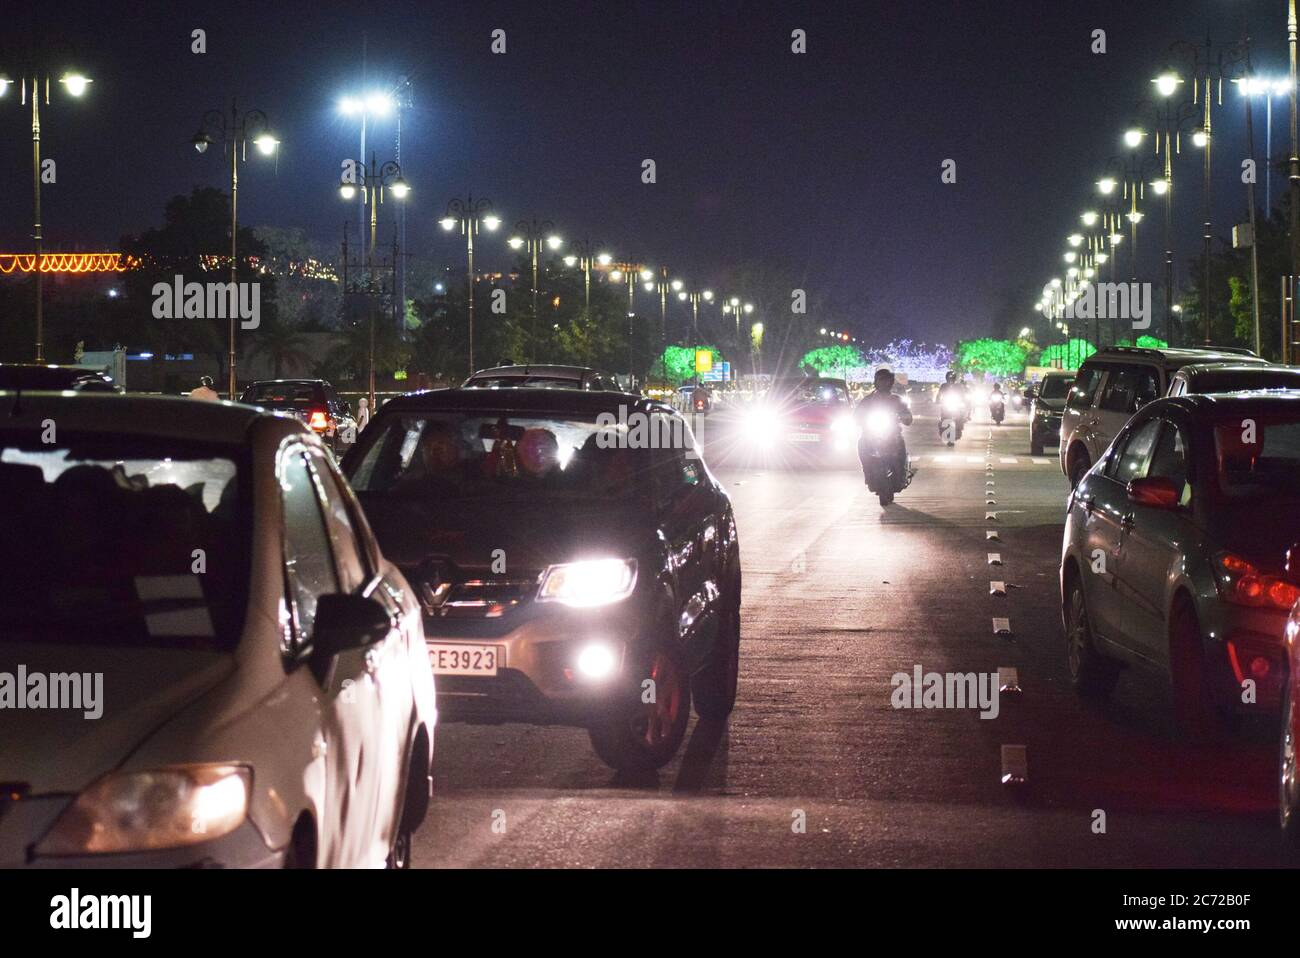bike: (860, 368, 909, 507), (941, 372, 966, 447), (989, 383, 1005, 427)
car: (1, 393, 442, 867), (363, 387, 740, 782), (1069, 397, 1300, 761), (1063, 353, 1199, 480), (756, 376, 856, 478), (253, 381, 357, 452), (1030, 371, 1076, 458)
